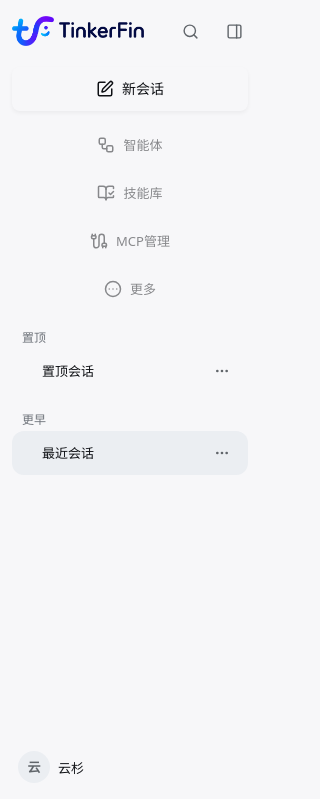
Test: Sidebar › 用户菜单通过 Escape 收起并把焦点还给触发器
Click the button named "打开用户菜单": x=130, y=767 [12, 745, 248, 789]
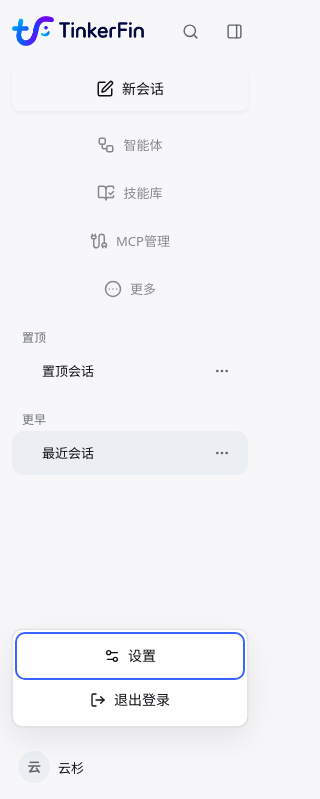
Press Escape
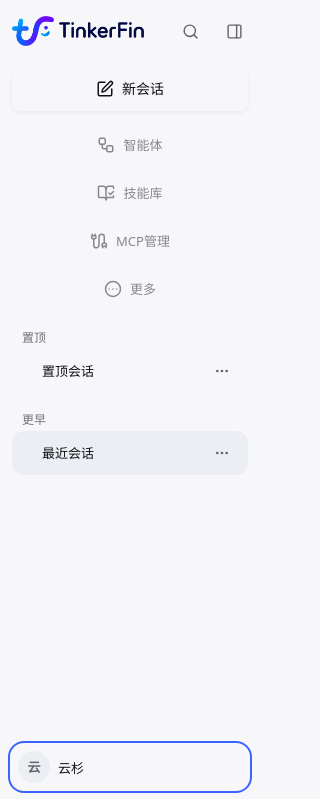
Check: the menu item "退出登录" is gone
